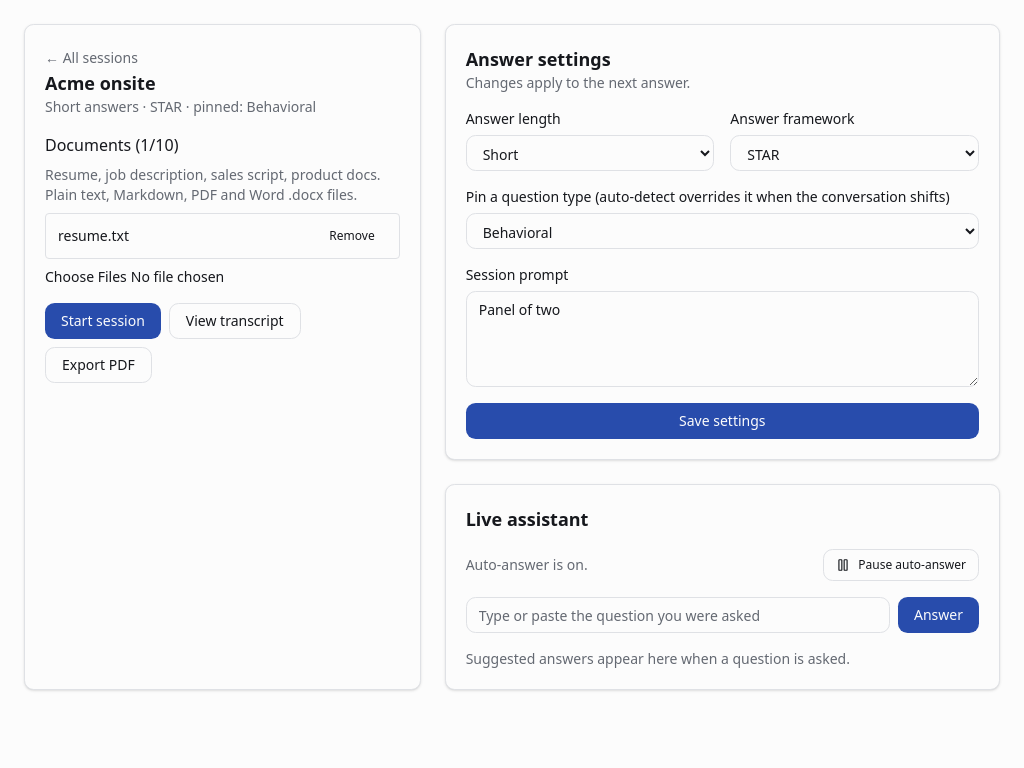
Test: session settings editing (Draft) › pre-fills, hides title and mode, saves and shows the returned session
The image size is (1024, 768).
Expected: the heading "Acme onsite" is shown, [45, 71, 156, 95]
Expected: the dropdown labelled "Answer framework" shows "STAR", [730, 135, 979, 171]
Select "Long" in the dropdown labelled "Answer length": [590, 153] box [466, 135, 714, 171]
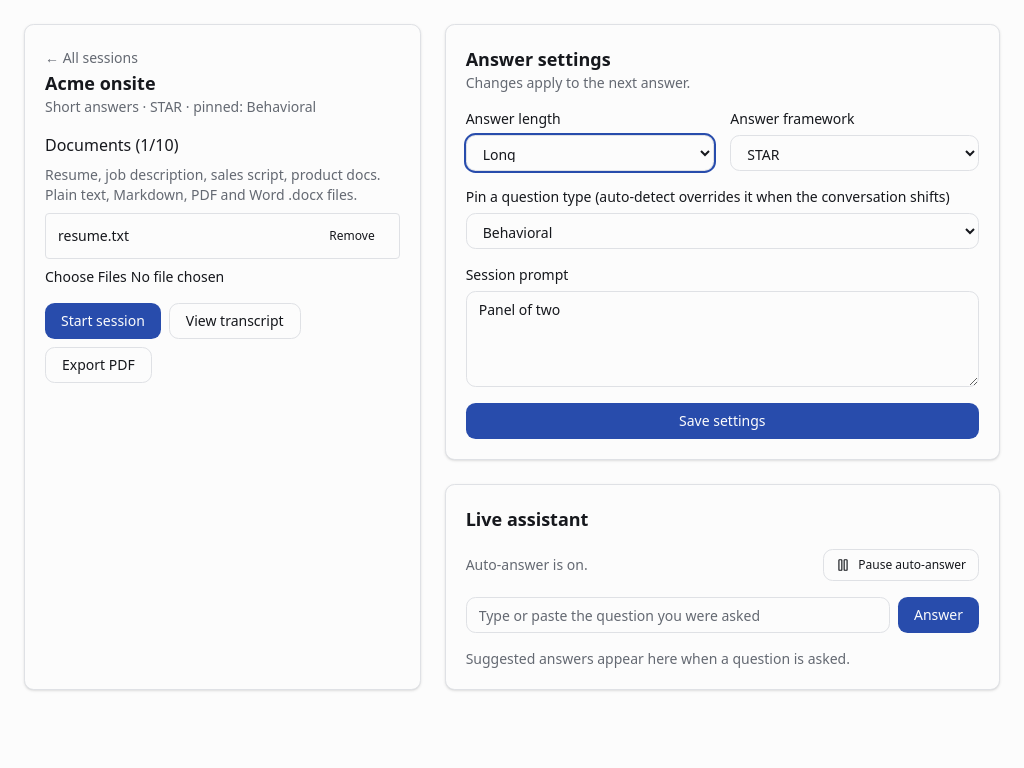
Select "SMART" in the dropdown labelled "Answer framework": [855, 153] box [730, 135, 979, 171]
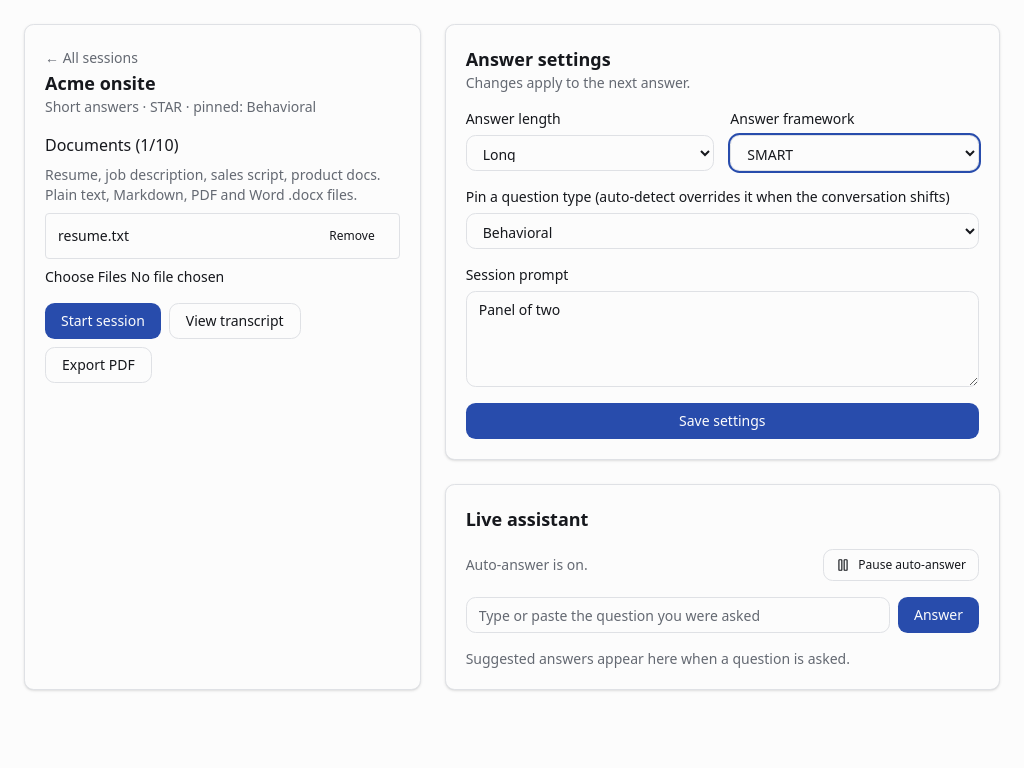
Select "Auto-detect" in the dropdown labelled "Pin a question type": [722, 231] box [466, 213, 979, 249]
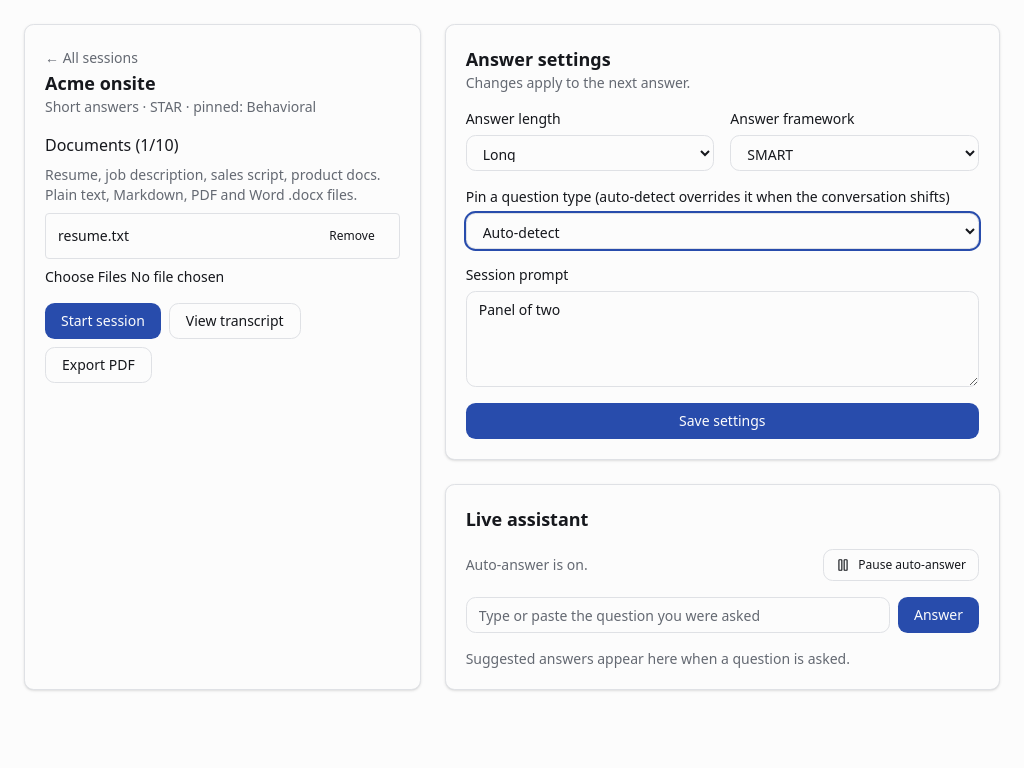
Replace the text in the text box labelled "Session prompt" with "New prompt": [722, 339] box [466, 291, 979, 387]
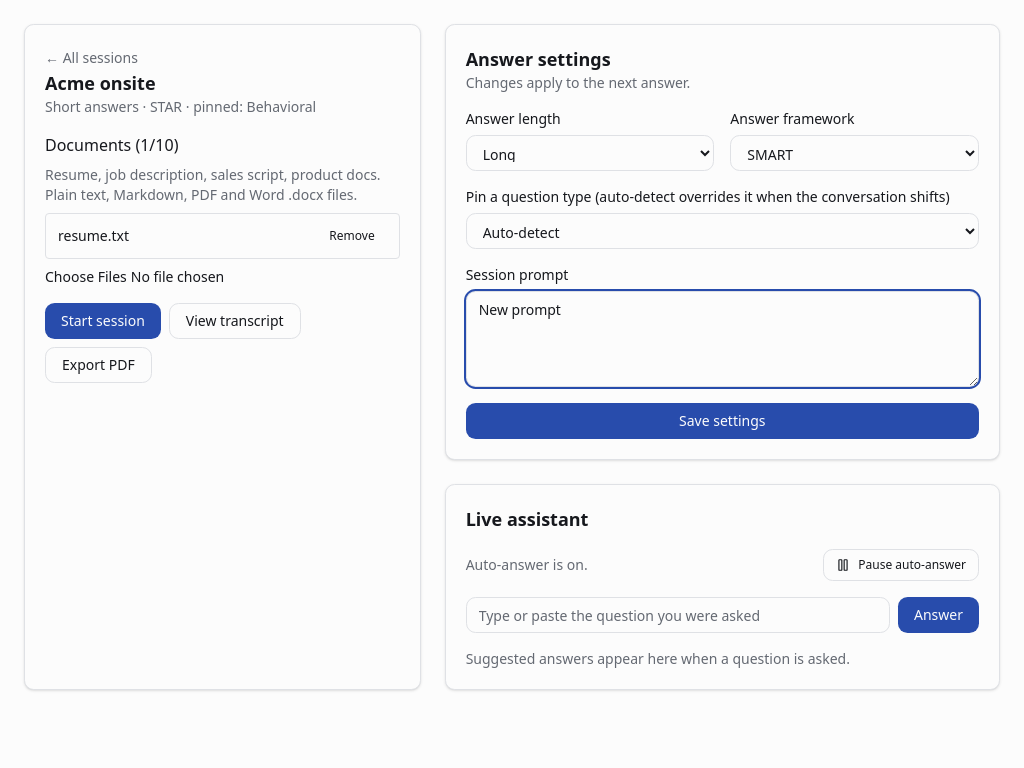
Click the button "Save settings": [722, 421] box [466, 403, 979, 439]
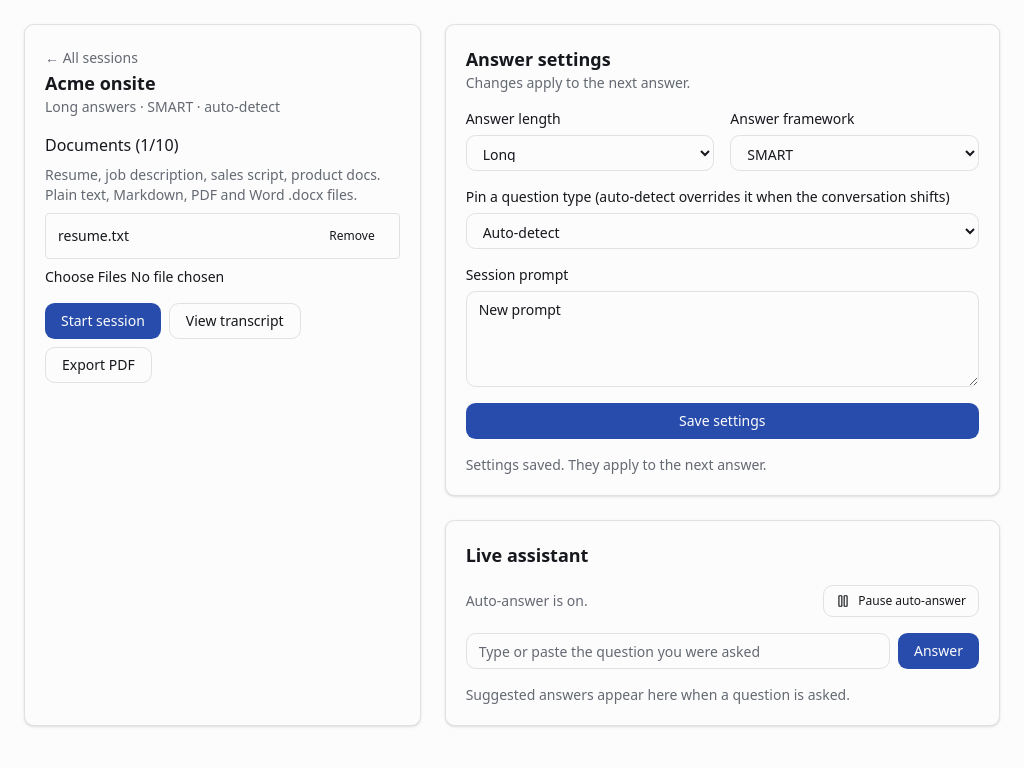
Expected: the text "Settings saved. They apply to the next answer." is shown, [466, 455, 767, 474]
Expected: the text "Long answers · SMART · auto-detect" is shown, [45, 97, 280, 116]
